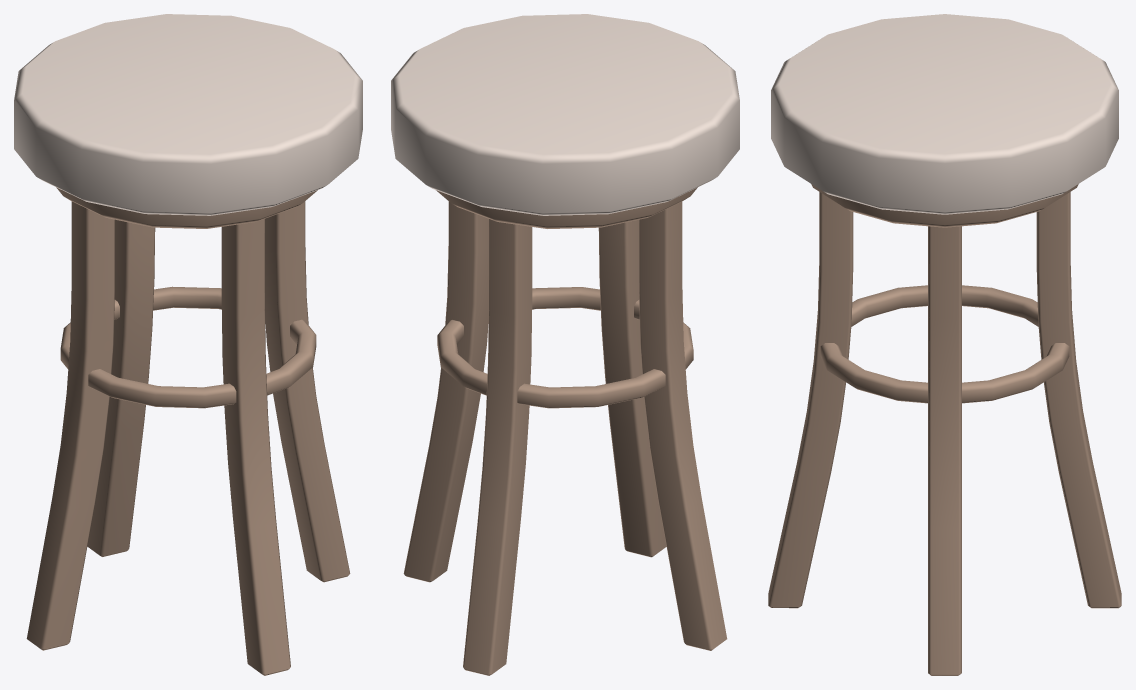
Rendered from Chair_4.glb.
3 renders of one model, left to right at view 1: azimuth 30°, elevation 25°; view 2: azimuth 150°, elevation 25°; view 3: azimuth 270°, elevation 25°, orthographic.
Visible parts, largest first — view 1: Chair_4; view 2: Chair_4; view 3: Chair_4.
Boxes of the visible parts, x1,y1,x2,y2 form: Chair_4: (14, 14, 362, 675); Chair_4: (391, 14, 739, 675); Chair_4: (768, 14, 1121, 675).
Bounding box in the file's own units: 0.6907 × 1.12 × 0.6907.
Materials: 1 (1 with a texture image).
